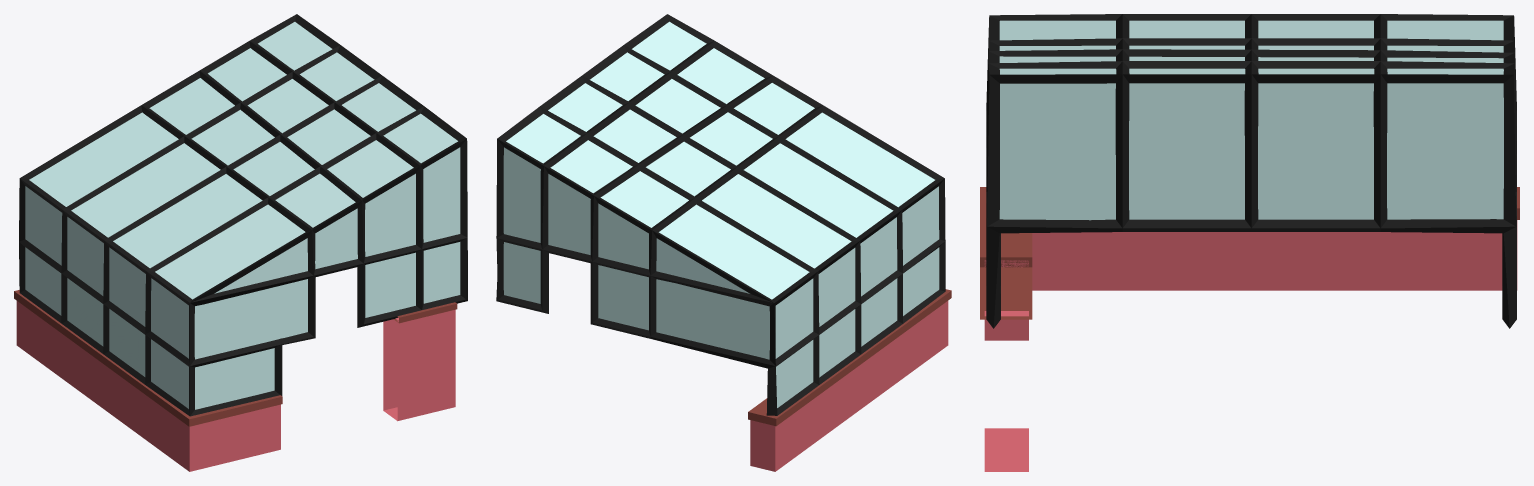
File: Cabin.fbx
3 views of the same model, side by side, from view 1: azimuth 30°, elevation 25°; view 2: azimuth 150°, elevation 25°; view 3: azimuth 270°, elevation 25° (orthographic). The views are drawn at different scales.
Visible parts, largest first — view 1: Cabin; view 2: Cabin; view 3: Cabin.
Boxes of the visible parts, x1,y1,x2,y2 form: Cabin: (14,14,467,471); Cabin: (496,14,951,471); Cabin: (980,14,1519,471).
Size of the model in its own units: 3403 by 3041 by 3647.
